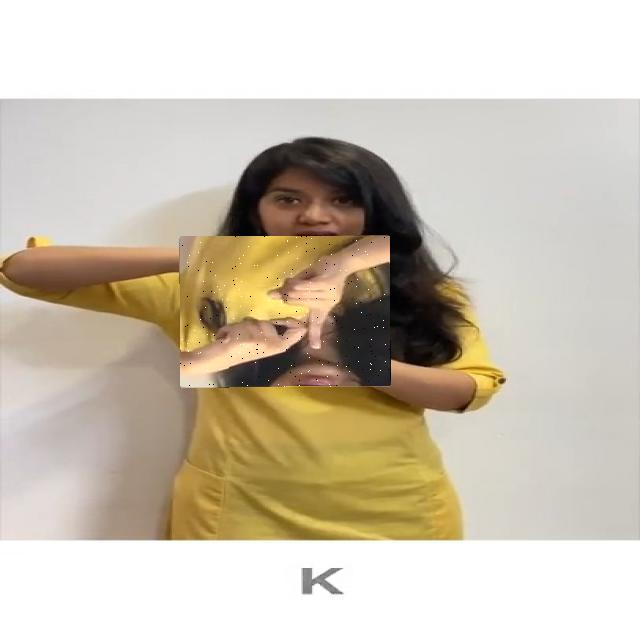K: (180, 236, 390, 387)
